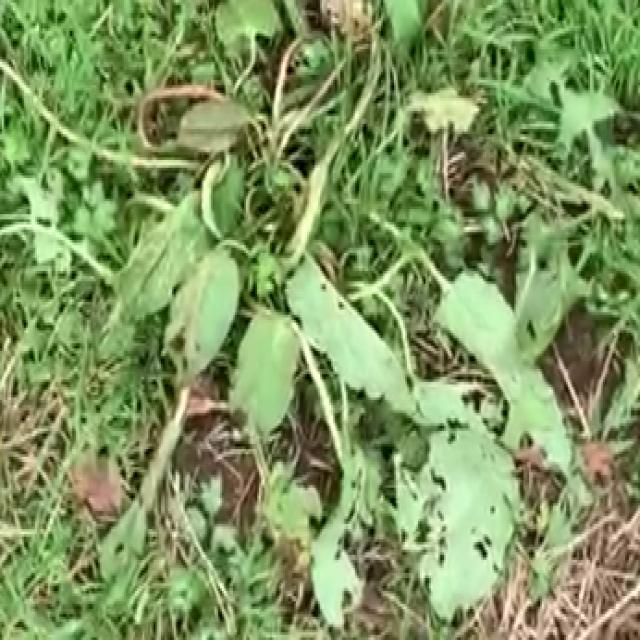organic waste: (122, 0, 603, 619)
